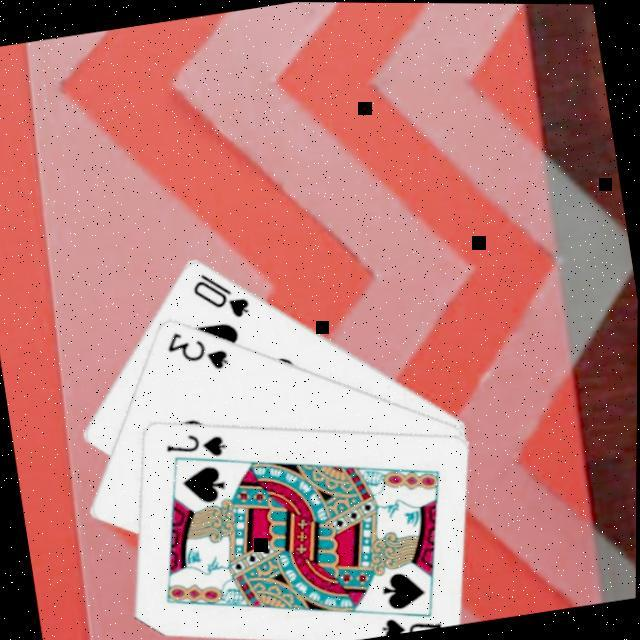10S: (188, 264, 256, 328)
3S: (163, 322, 235, 382)
JS: (162, 426, 232, 468), (378, 608, 446, 636)
